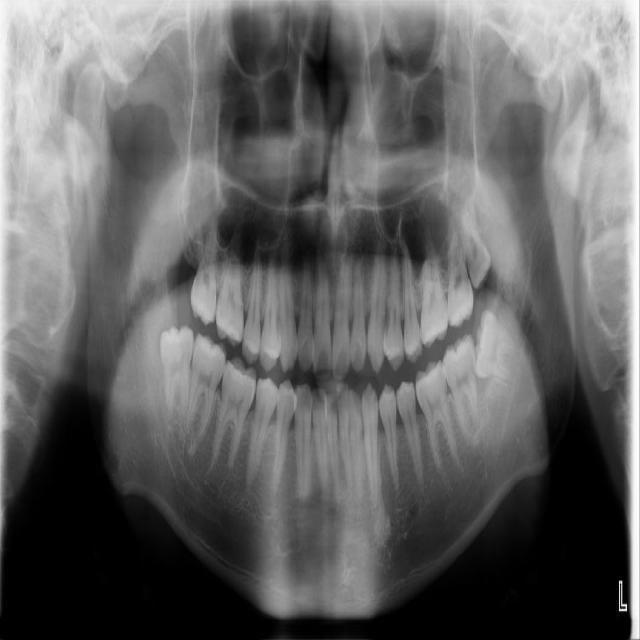73: (596, 596, 608, 596)
BioHorizons Implant: (447, 218, 474, 328)
BioLife Implant: (457, 202, 495, 291)
Biomet 3i Implant: (471, 309, 518, 383)
Blue Sky Bio Implant: (441, 333, 481, 443)
Caries: (191, 219, 217, 327)
Implant: (184, 333, 228, 442)
Keystone Dental Implant: (160, 324, 194, 416)
